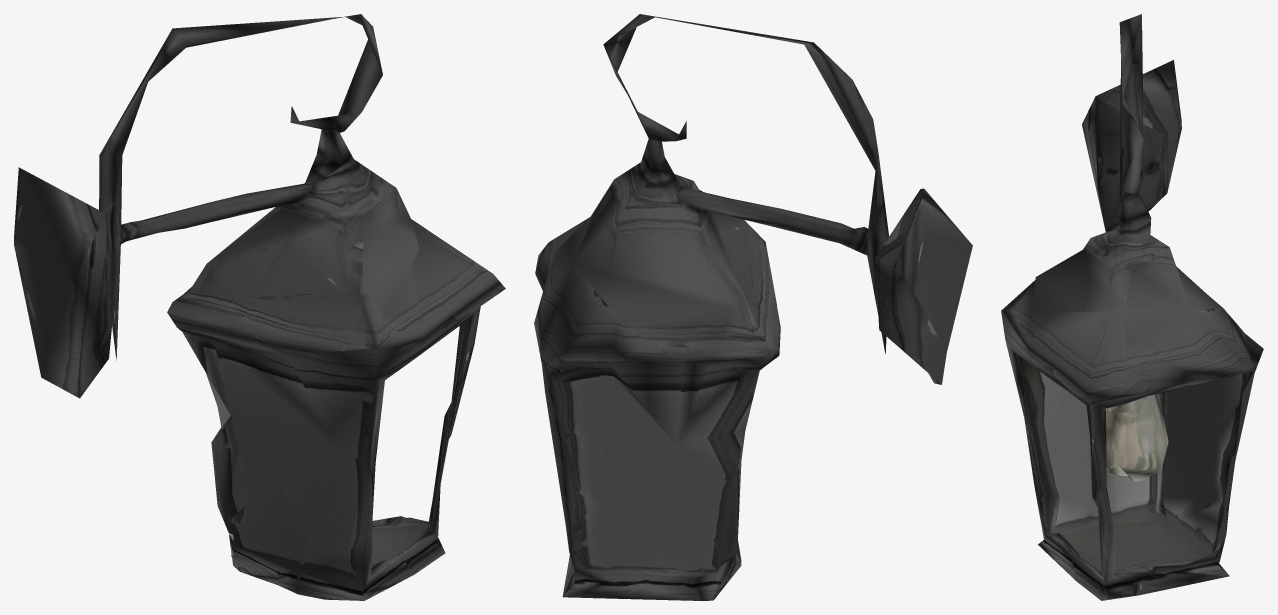
File: lantern_lod1.glb
3 views of the same model, side by side, from view 1: azimuth 30°, elevation 25°; view 2: azimuth 150°, elevation 25°; view 3: azimuth 270°, elevation 25° (orthographic). The views are drawn at different scales.
Visible parts, largest first — view 1: tripo_node_d0acc25a-cbff-4f93-b70c-04f4e6ec9c09; view 2: tripo_node_d0acc25a-cbff-4f93-b70c-04f4e6ec9c09; view 3: tripo_node_d0acc25a-cbff-4f93-b70c-04f4e6ec9c09.
Boxes of the visible parts, x1,y1,x2,y2 form: tripo_node_d0acc25a-cbff-4f93-b70c-04f4e6ec9c09: [14, 14, 505, 600]; tripo_node_d0acc25a-cbff-4f93-b70c-04f4e6ec9c09: [534, 14, 972, 600]; tripo_node_d0acc25a-cbff-4f93-b70c-04f4e6ec9c09: [1001, 14, 1263, 600].
Size of the model in its own units: 0.3638 by 0.4695 by 0.2232.
1 material, 1 textured.
